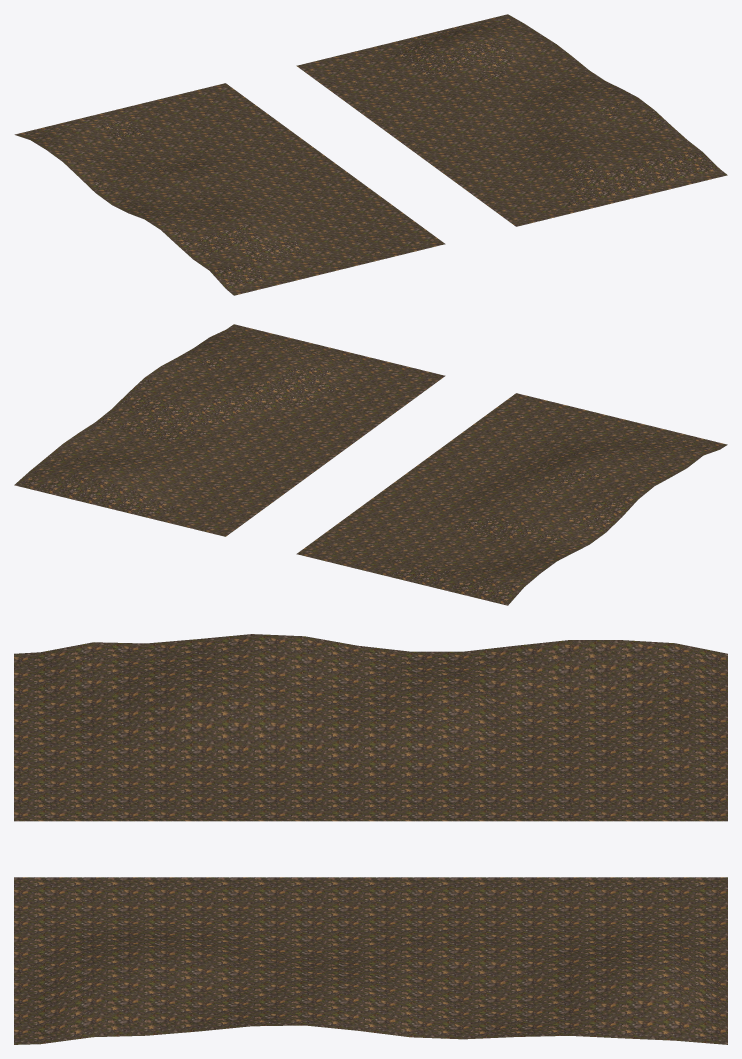
Rendered from zalesye_landform_lod.gltf.
The picture shows the model from 3 angles, top to bottom: view 1: azimuth 30°, elevation 25°; view 2: azimuth 150°, elevation 25°; view 3: azimuth 270°, elevation 25°; orthographic projection. The views are drawn at different scales.
Visible parts, largest first — view 1: zalesye_landform_lod; view 2: zalesye_landform_lod; view 3: zalesye_landform_lod.
Part boxes in pixels (x1,y1,x2,y2): zalesye_landform_lod: (14,14,727,295); zalesye_landform_lod: (14,324,727,605); zalesye_landform_lod: (14,634,727,1044).
Size of the model in its own units: 70 by 1.73 by 54.
Materials: 1 (1 with a texture image).
